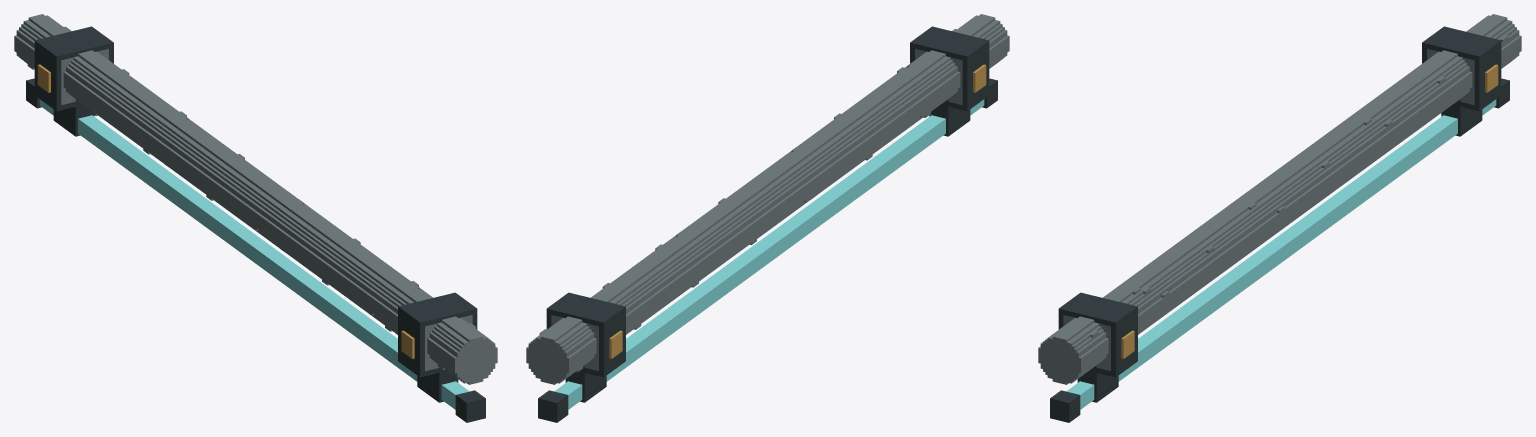
The picture shows the model from 3 angles, left to right: view 1: azimuth 30°, elevation 25°; view 2: azimuth 150°, elevation 25°; view 3: azimuth 330°, elevation 25°; orthographic projection.
Visible parts, largest first — view 1: 既有缆车承载索与能量线; view 2: 既有缆车承载索与能量线; view 3: 既有缆车承载索与能量线.
Part boxes in pixels (box(x1,y1,x2,y2)): 既有缆车承载索与能量线: box(14, 14, 497, 422); 既有缆车承载索与能量线: box(526, 14, 1009, 422); 既有缆车承载索与能量线: box(1038, 14, 1521, 422).
Size of the model in its own units: 0.65 by 0.85 by 8.
4 materials, 4 textured.
